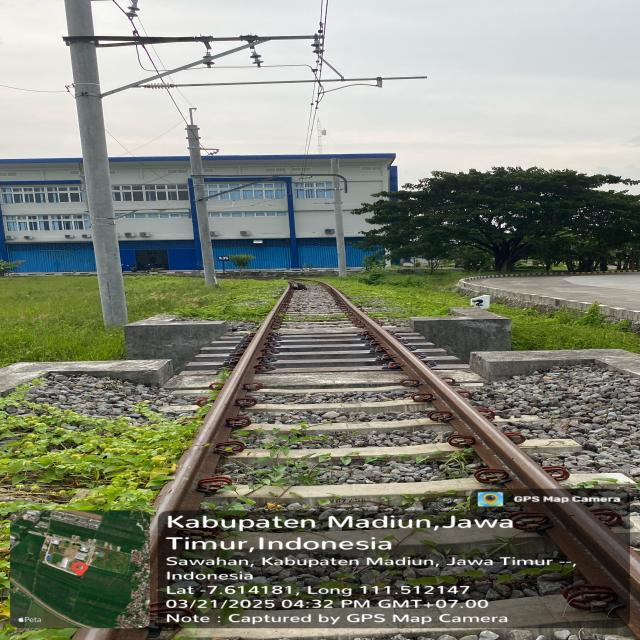rail-detection: (320, 282, 637, 599), (150, 285, 294, 617)
